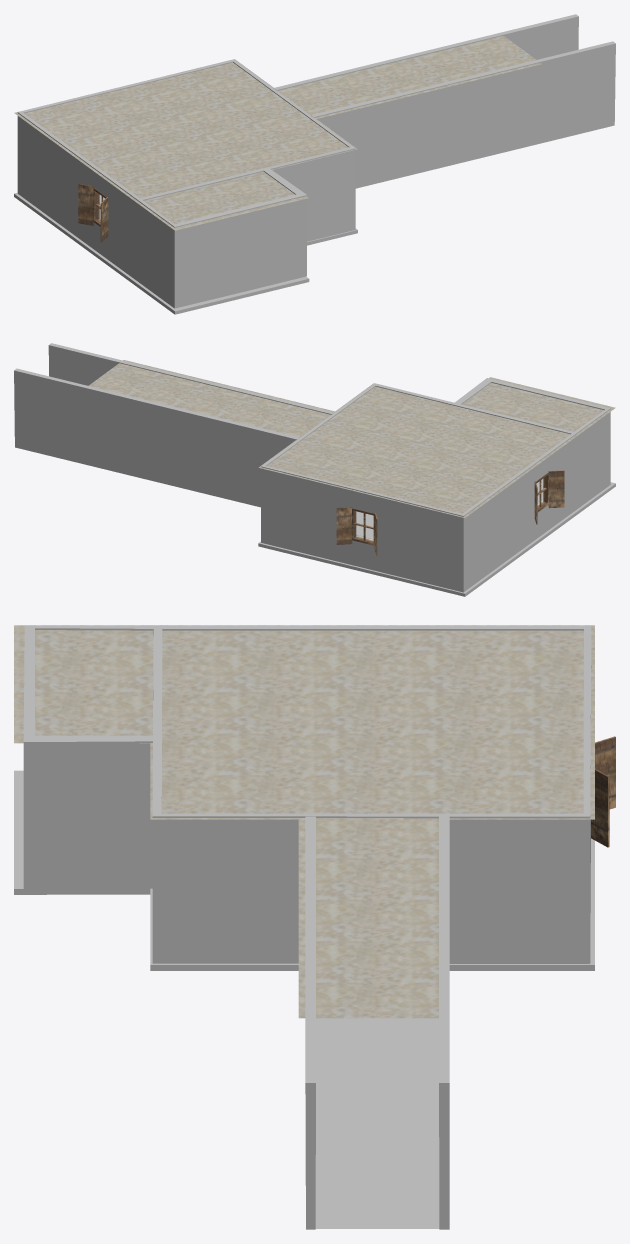
File: roomTextured.fbx
3 views of the same model, one above another, from view 1: azimuth 30°, elevation 25°; view 2: azimuth 150°, elevation 25°; view 3: azimuth 270°, elevation 25° (orthographic). The views are drawn at different scales.
Visible parts, largest first — view 1: Ceiling, Wall6, Corridor, Floor, Window2; view 2: Ceiling, Wall6, Corridor, Floor, Window1, Window2; view 3: Ceiling, Wall6, CorridorFloor, Corridor, Floor, Window1.
Part boxes in pixels (x1,y1,x2,y2): Ceiling: (14, 35, 541, 230); Wall6: (17, 59, 355, 308); Corridor: (274, 14, 615, 188); Floor: (14, 193, 357, 314); Window2: (78, 183, 108, 242); Ceiling: (88, 360, 615, 517); Wall6: (261, 378, 610, 592); Corridor: (14, 343, 334, 507); Floor: (258, 479, 615, 596); Window1: (336, 507, 377, 555); Window2: (534, 470, 564, 524); Ceiling: (14, 625, 594, 1018); Wall6: (23, 626, 591, 963); CorridorFloor: (315, 1018, 439, 1228); Corridor: (305, 816, 449, 1229); Floor: (14, 770, 594, 970); Window1: (591, 736, 615, 847).
Size of the model in its own units: 22.54 by 3.44 by 12.26.
